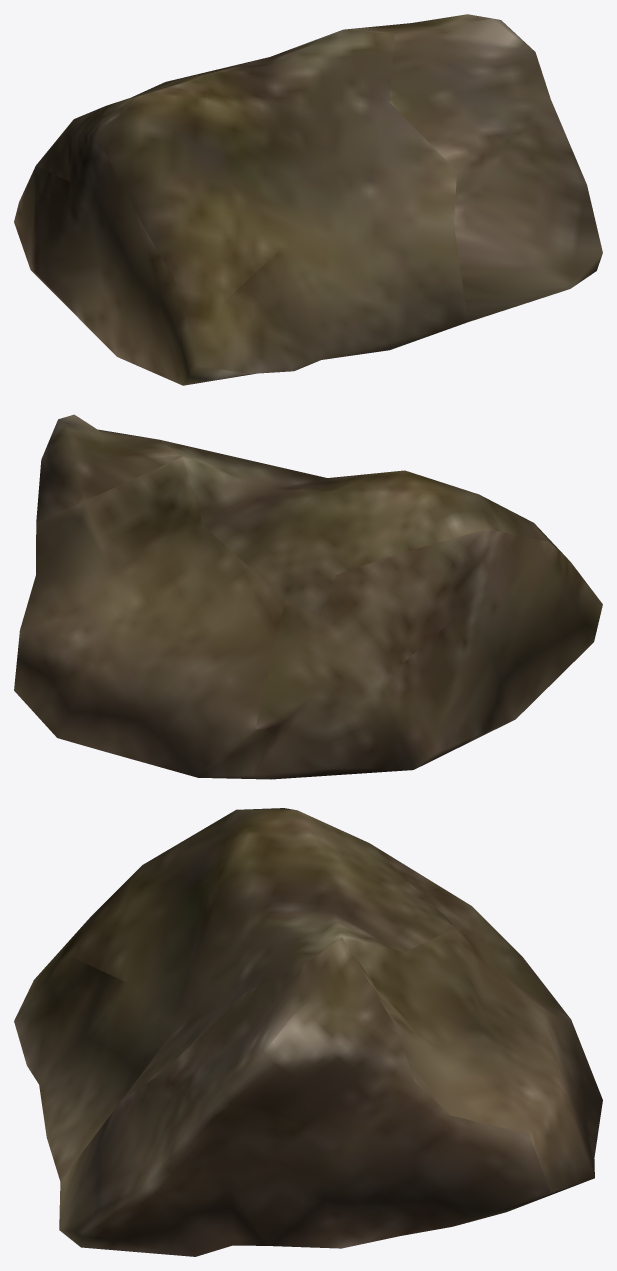
Rendered from moss_b_far.glb.
The picture shows the model from 3 angles, top to bottom: view 1: azimuth 30°, elevation 25°; view 2: azimuth 150°, elevation 25°; view 3: azimuth 270°, elevation 25°; orthographic projection. The views are drawn at different scales.
Visible parts, largest first — view 1: rock_moss_set_01_rock03; view 2: rock_moss_set_01_rock03; view 3: rock_moss_set_01_rock03.
Boxes of the visible parts, x1,y1,x2,y2 form: rock_moss_set_01_rock03: [14, 14, 602, 385]; rock_moss_set_01_rock03: [14, 414, 602, 779]; rock_moss_set_01_rock03: [14, 808, 602, 1256].
Size of the model in its own units: 2.1 by 1.08 by 2.07.
Materials: 1 (1 with a texture image).
